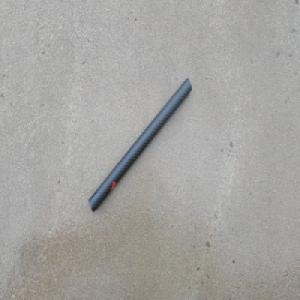LuggagePart: (87, 76, 193, 215)
